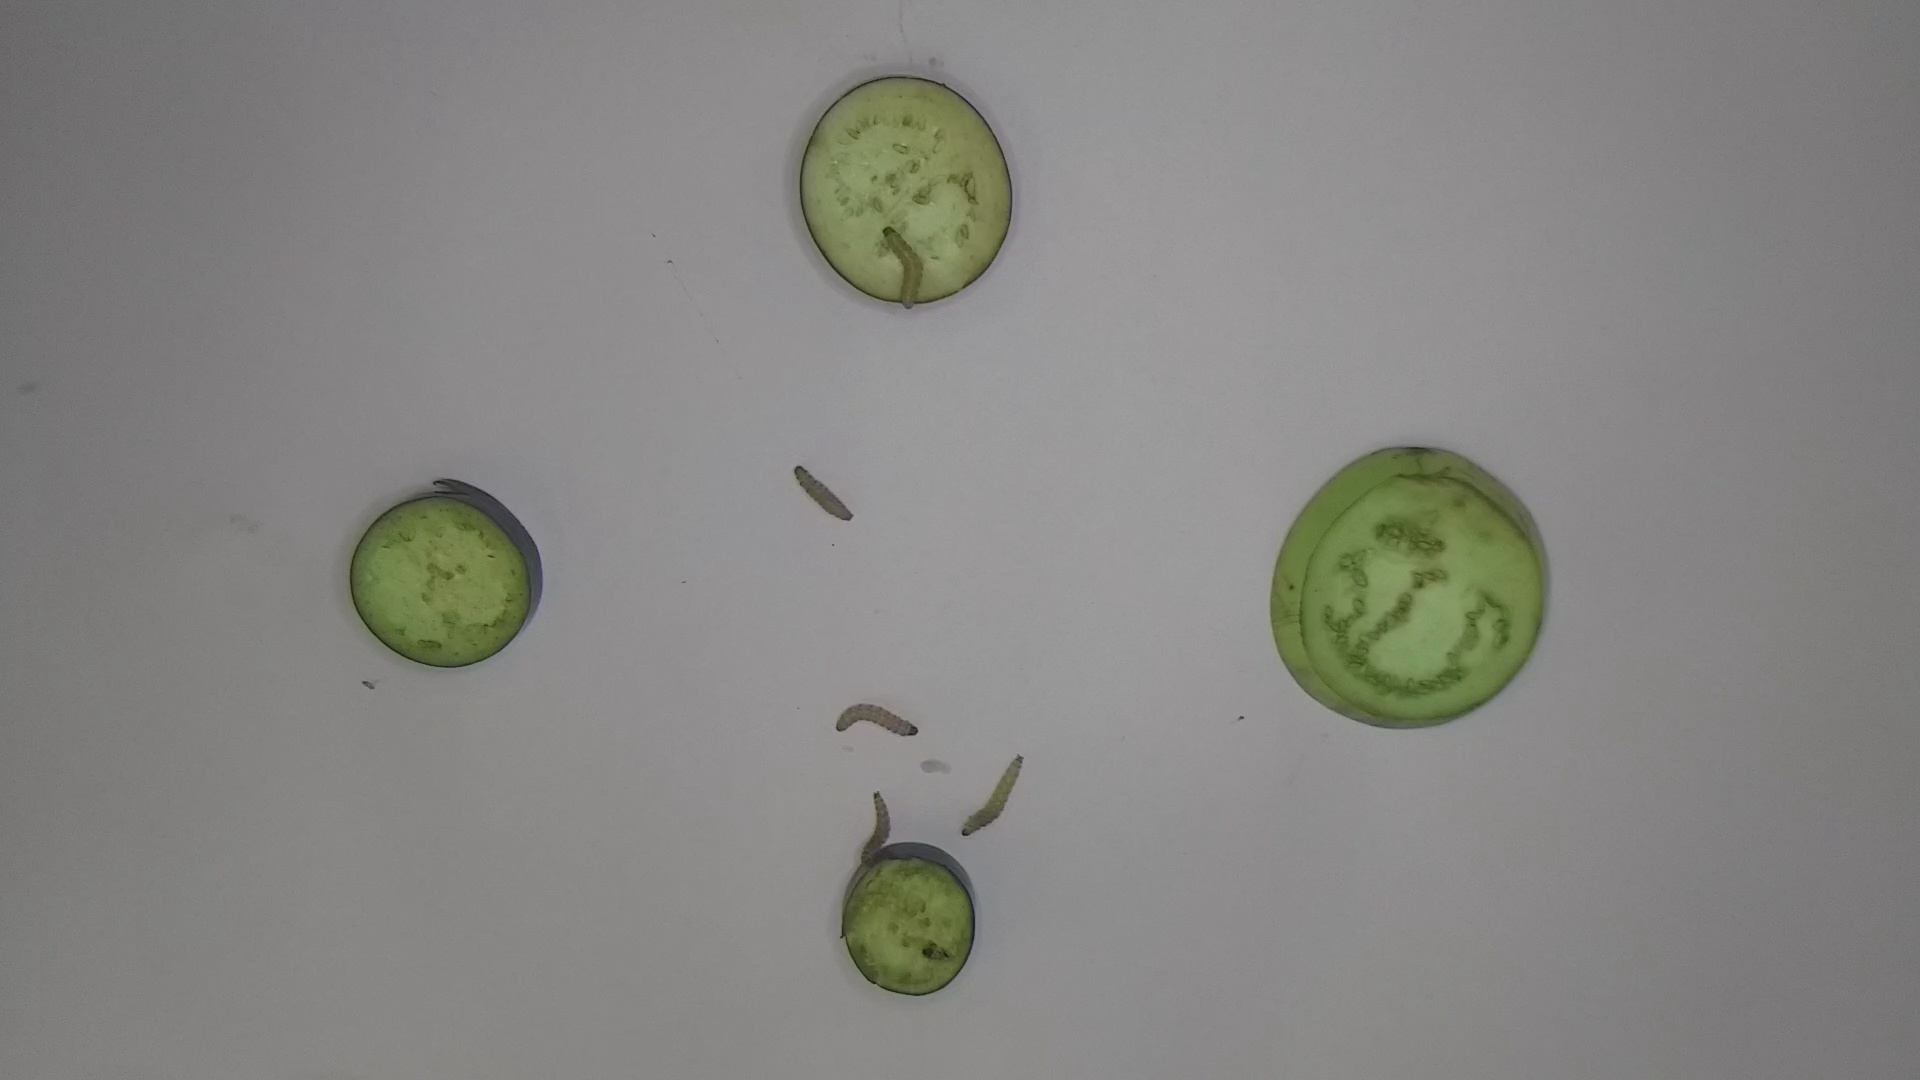efsb: (956, 745, 1031, 847), (873, 219, 926, 324), (786, 455, 858, 530), (833, 699, 927, 745), (853, 781, 895, 872)
eggplant: (1254, 439, 1561, 731), (789, 71, 1022, 315), (345, 476, 553, 673), (833, 827, 978, 996)
